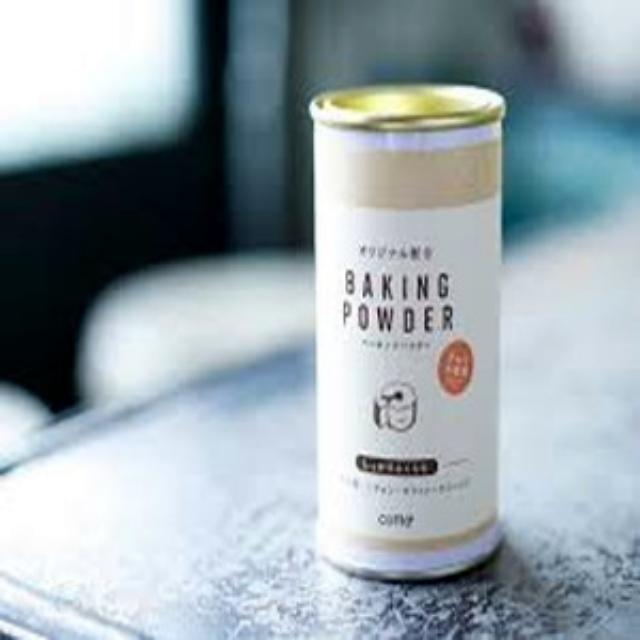Metal: (309, 73, 503, 582)
